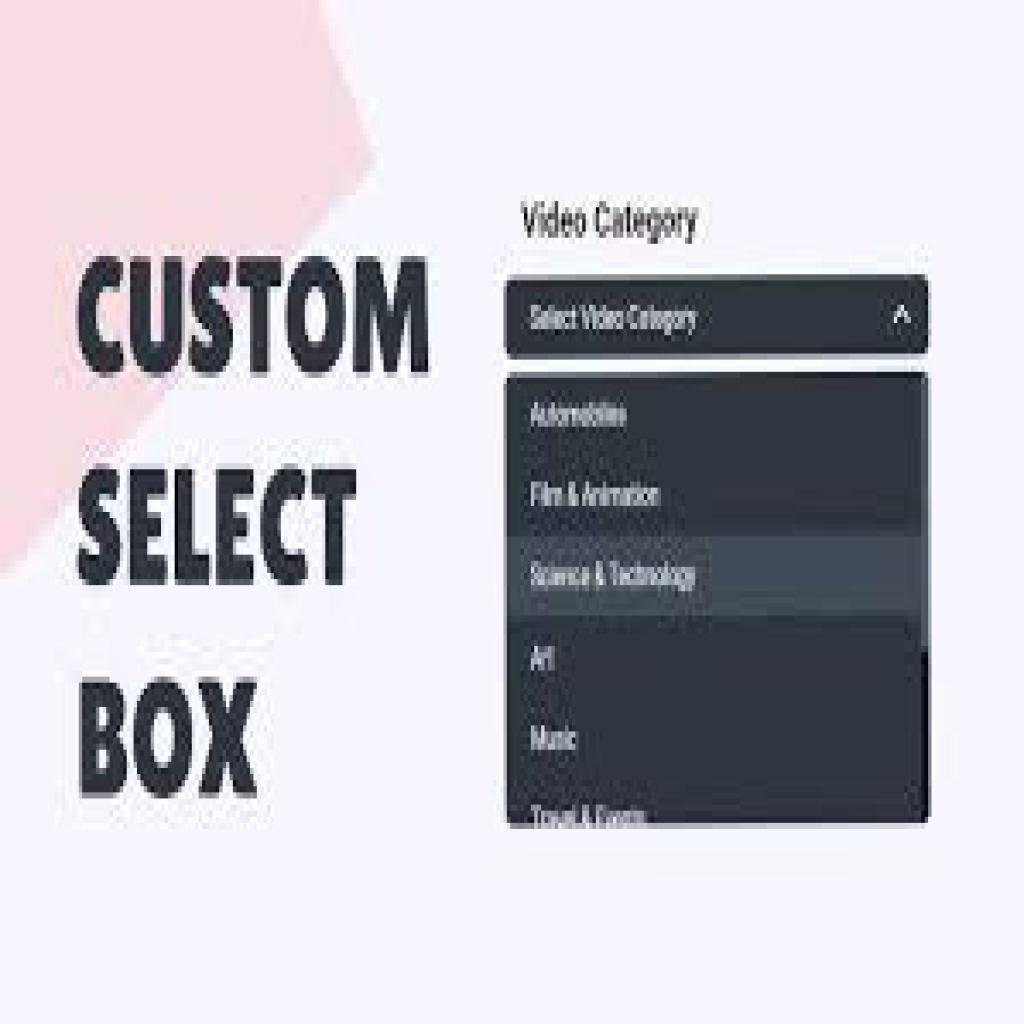dropdown: (505, 277, 931, 358)
